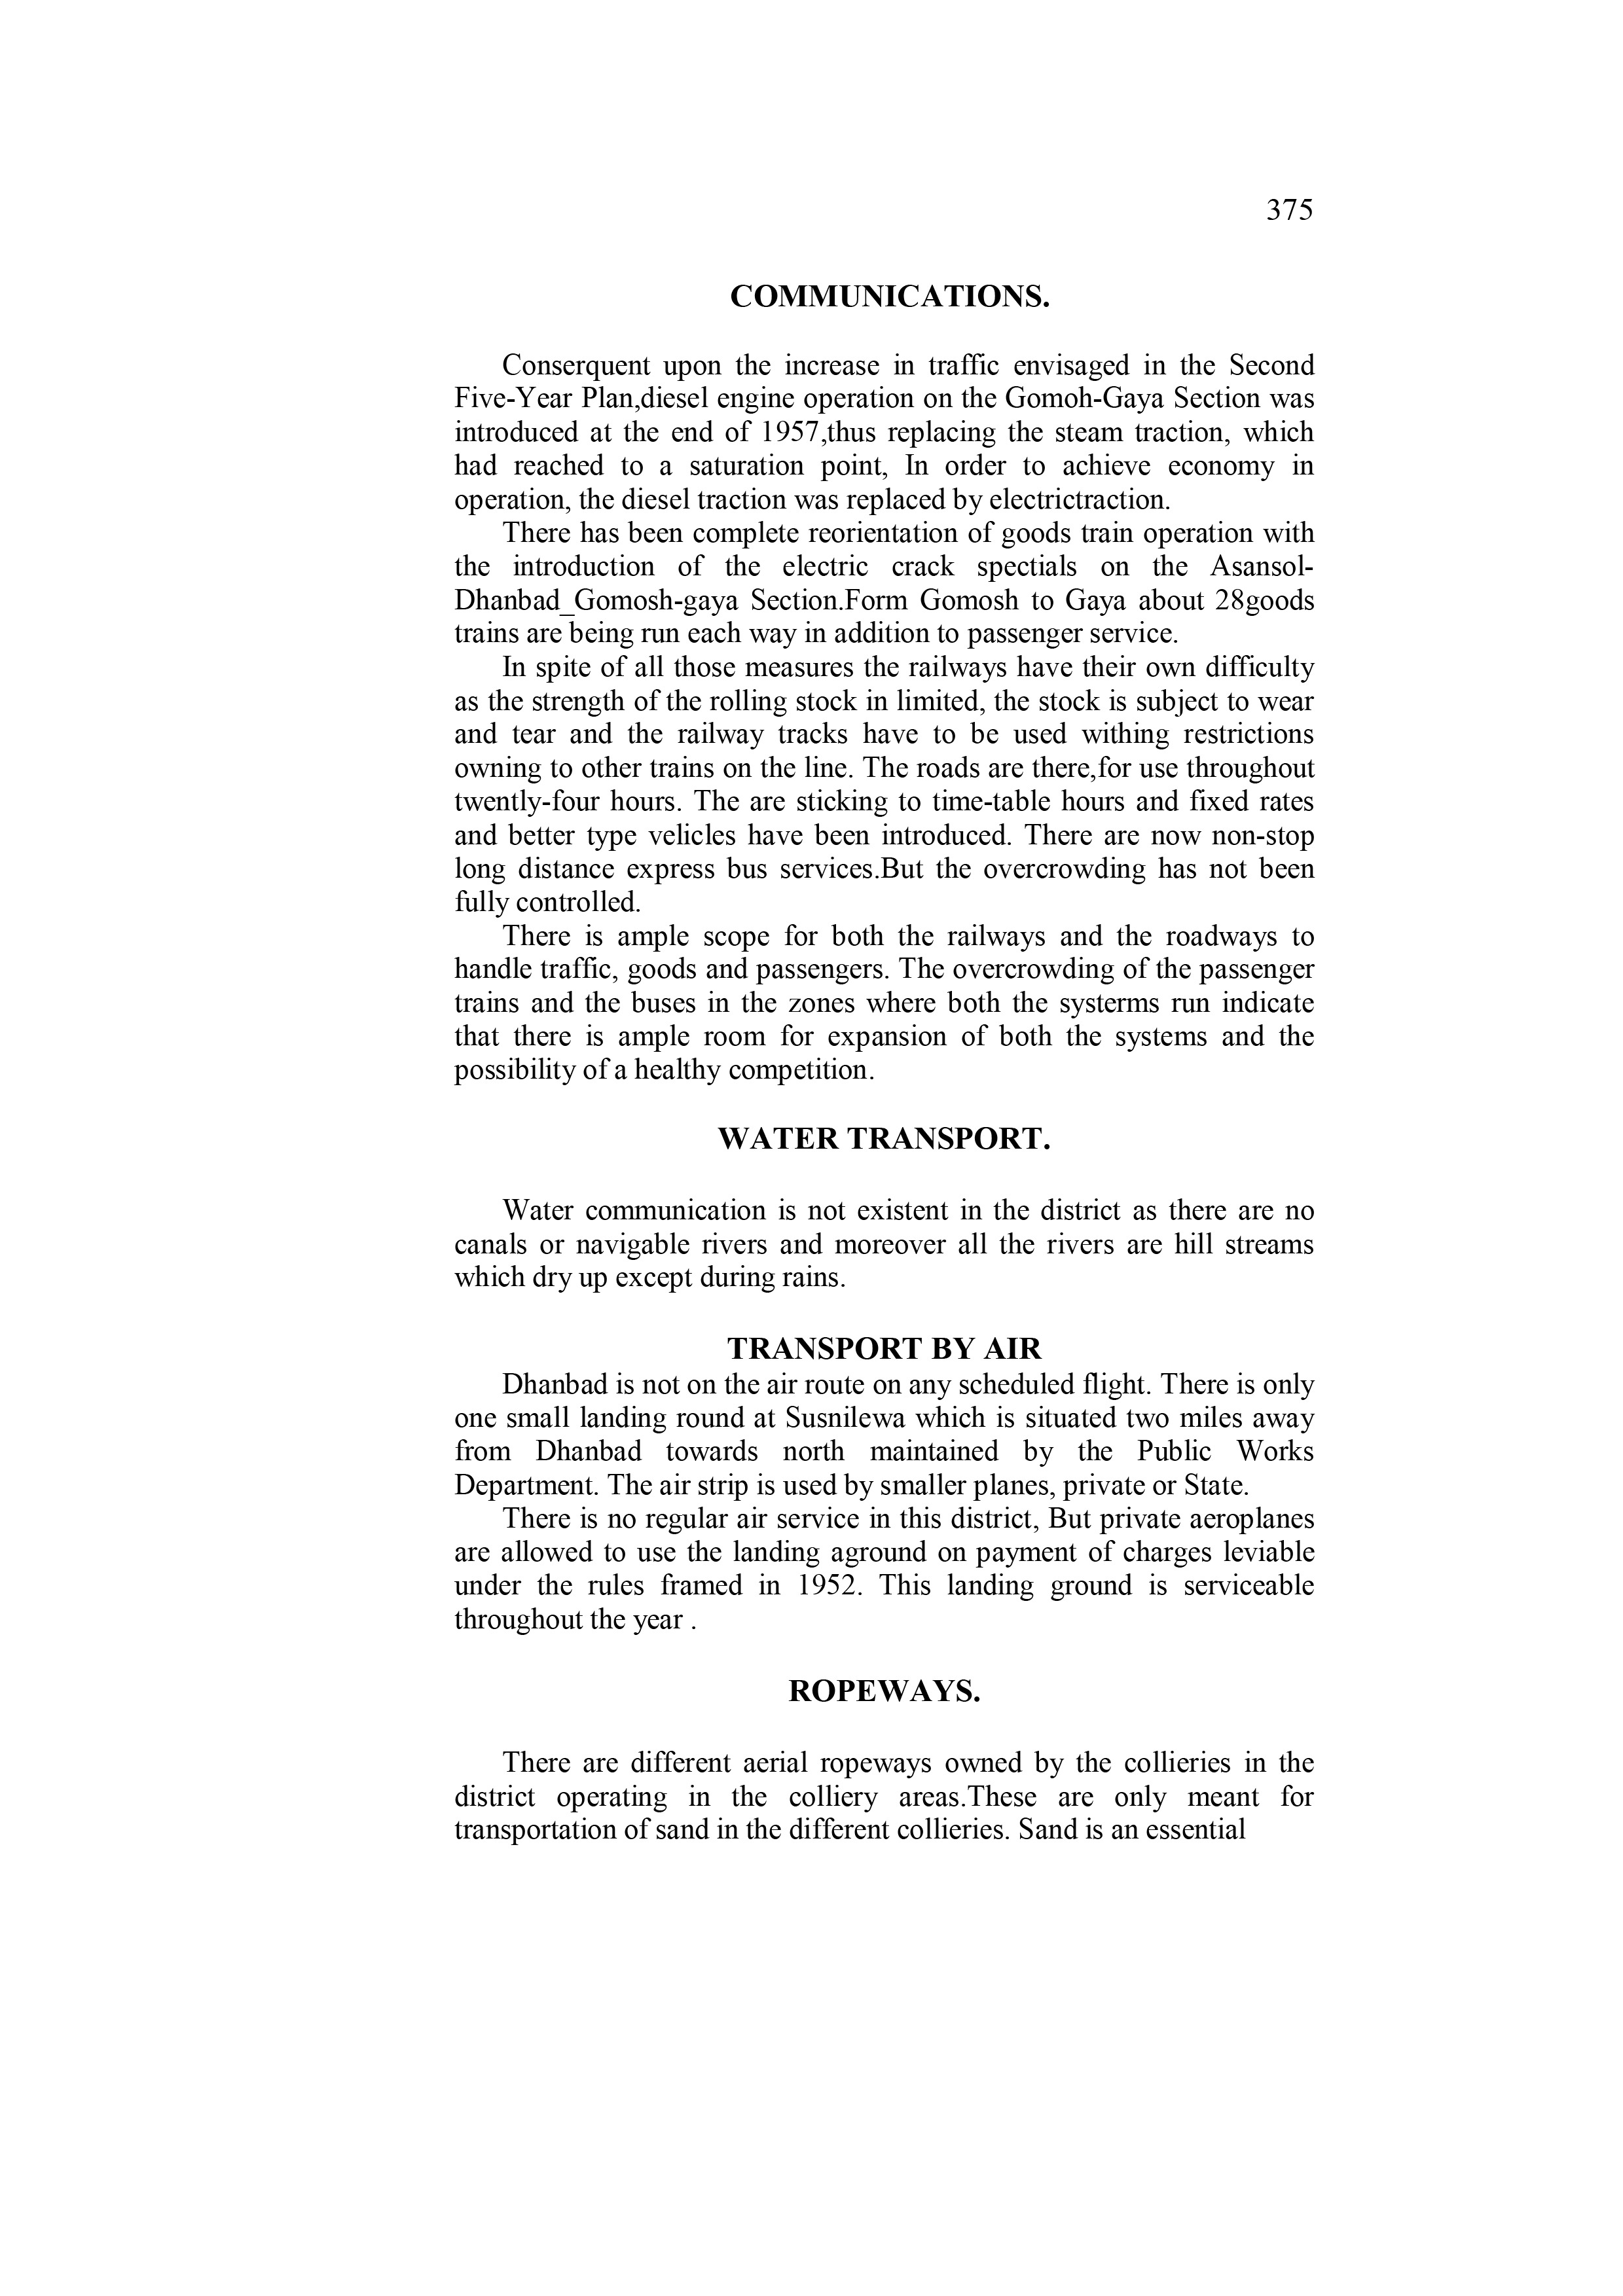section: (718, 260, 1057, 341), (701, 1317, 1057, 1376), (708, 1106, 1068, 1159), (769, 1655, 994, 1722)
text: (448, 1373, 1337, 1652), (451, 679, 1330, 906), (444, 330, 1317, 521), (441, 332, 1330, 518), (441, 915, 1330, 1088), (437, 525, 1340, 665), (444, 521, 1319, 665), (451, 1176, 1337, 1306), (448, 1740, 1340, 1862)
